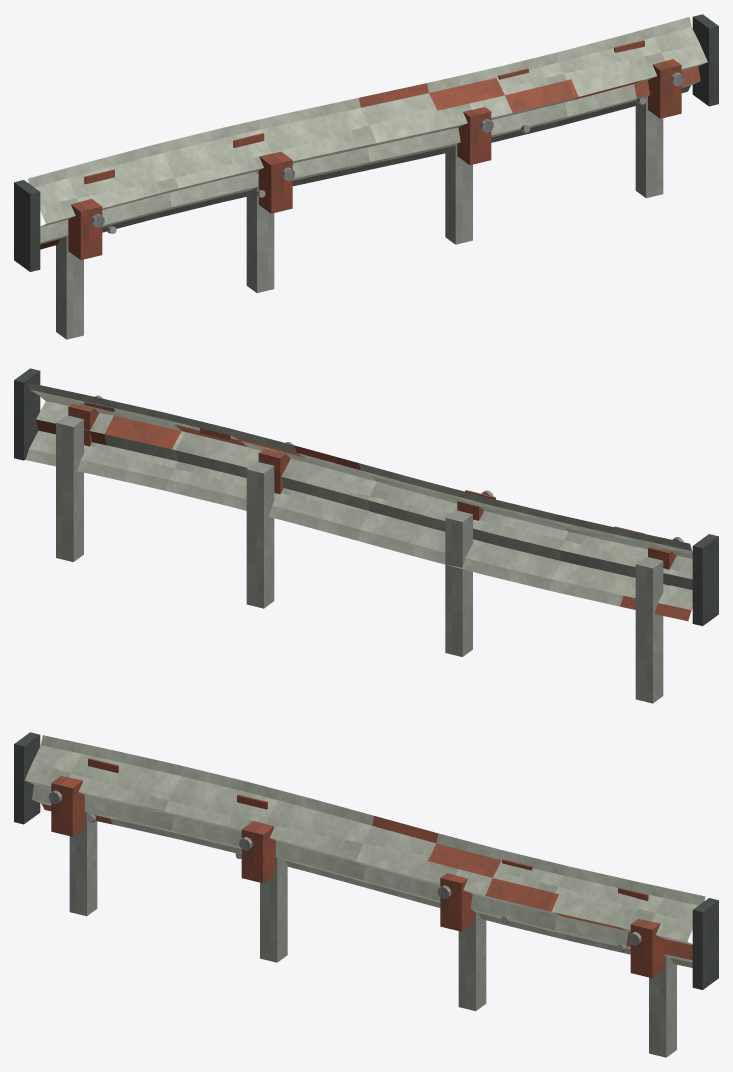
Rendered from bent_guardrail.glb.
3 renders of one model, top to bottom at view 1: azimuth 30°, elevation 25°; view 2: azimuth 150°, elevation 25°; view 3: azimuth 330°, elevation 25°, orthographic.
Parts seen in each view (by area): view 1: DecorativeStaticModel; view 2: DecorativeStaticModel; view 3: DecorativeStaticModel.
Part boxes in pixels (<box>): DecorativeStaticModel: <box>14,14,718,339</box>; DecorativeStaticModel: <box>14,368,718,703</box>; DecorativeStaticModel: <box>14,732,718,1057</box>.
Bounding box in the file's own units: 4.16 × 0.95 × 0.3685.
5 materials, 5 textured.
